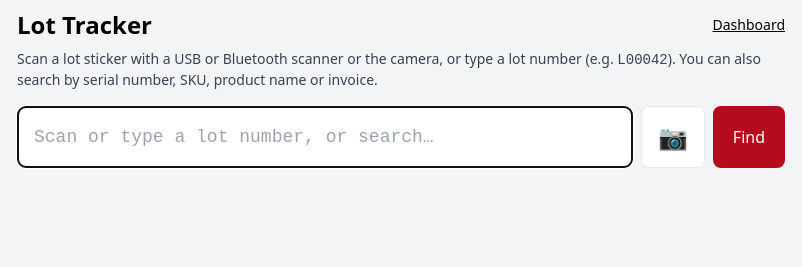
Test: search › a server validation message (e.g. too short) is shown
In the field named "Lot number or search": (325, 137) [17, 106, 633, 168], type "a"
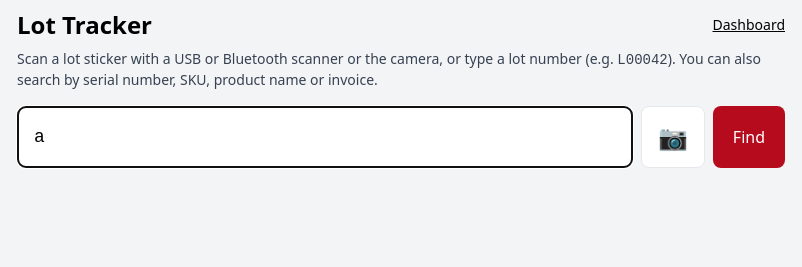
Submit the form, box [17, 106, 785, 168]
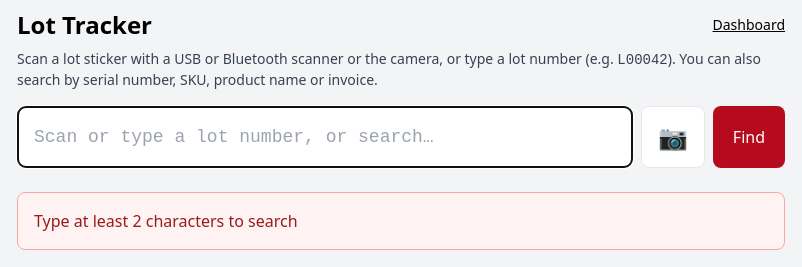
Expected: the message reads "Type at least 2 characters to search", [34, 210, 298, 232]
